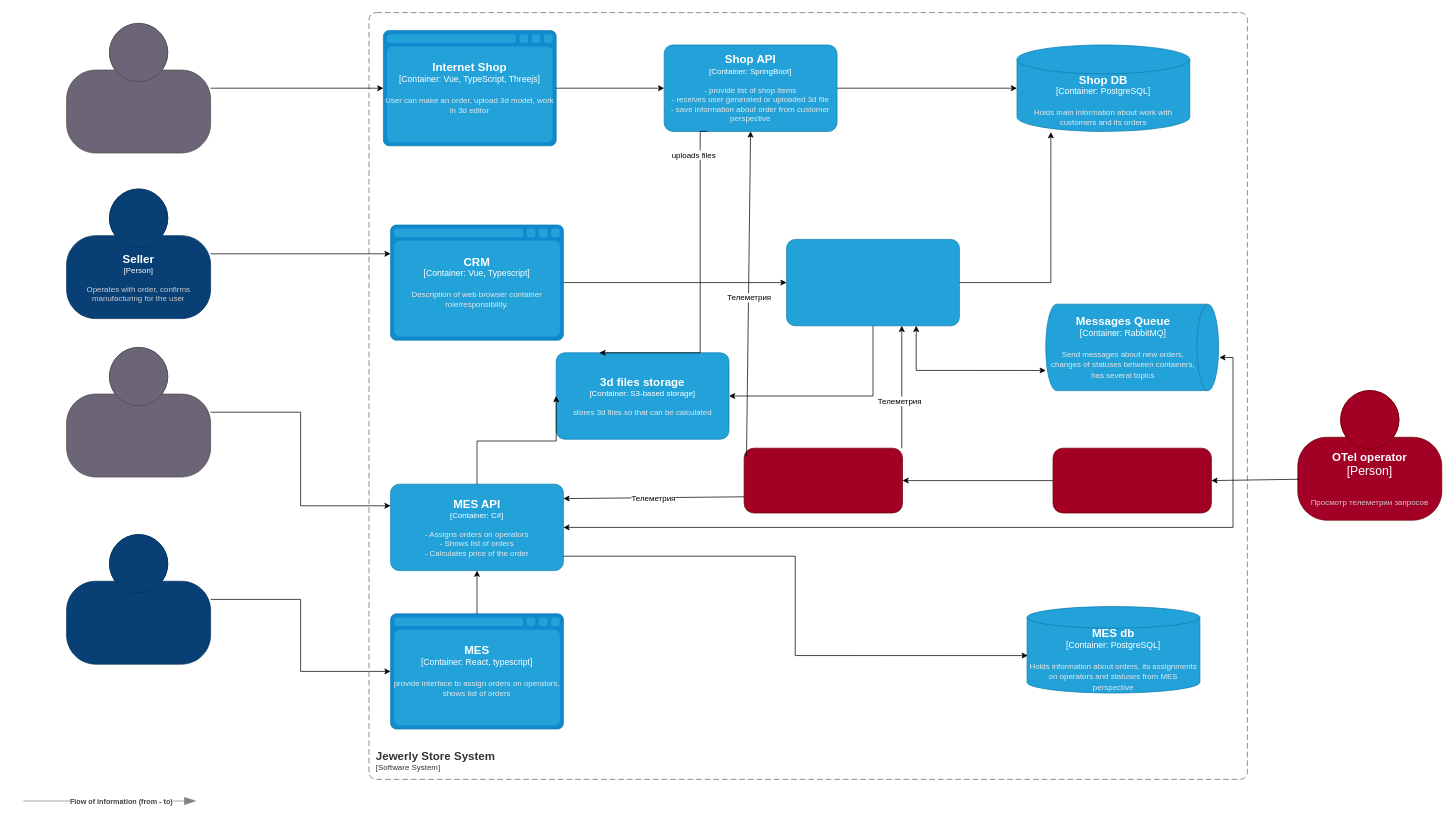
Image size: 1454x825. Some labels were removed from this diagram. Each missing label, with the centre of its shape:
"API user [Person] Description of external person." goes at [138,412].
"CRM API [Container: SpringBoot] Description of container role/responsibility." goes at [872,282].
"Customer [Person] Description of external person." goes at [138,88].
"Grafana" goes at [1131,480].
"Jaeger All-In-One" goes at [823,480].
"Operator [Person] Takes order in work, manufactures jewerly" goes at [138,599].
